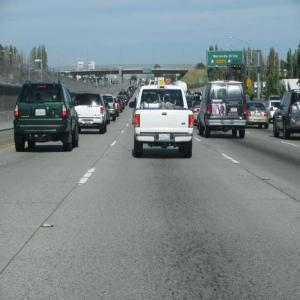Vehicle-registration-plate: (159, 132, 172, 142), (37, 109, 46, 117), (231, 107, 238, 113), (85, 121, 91, 124)
